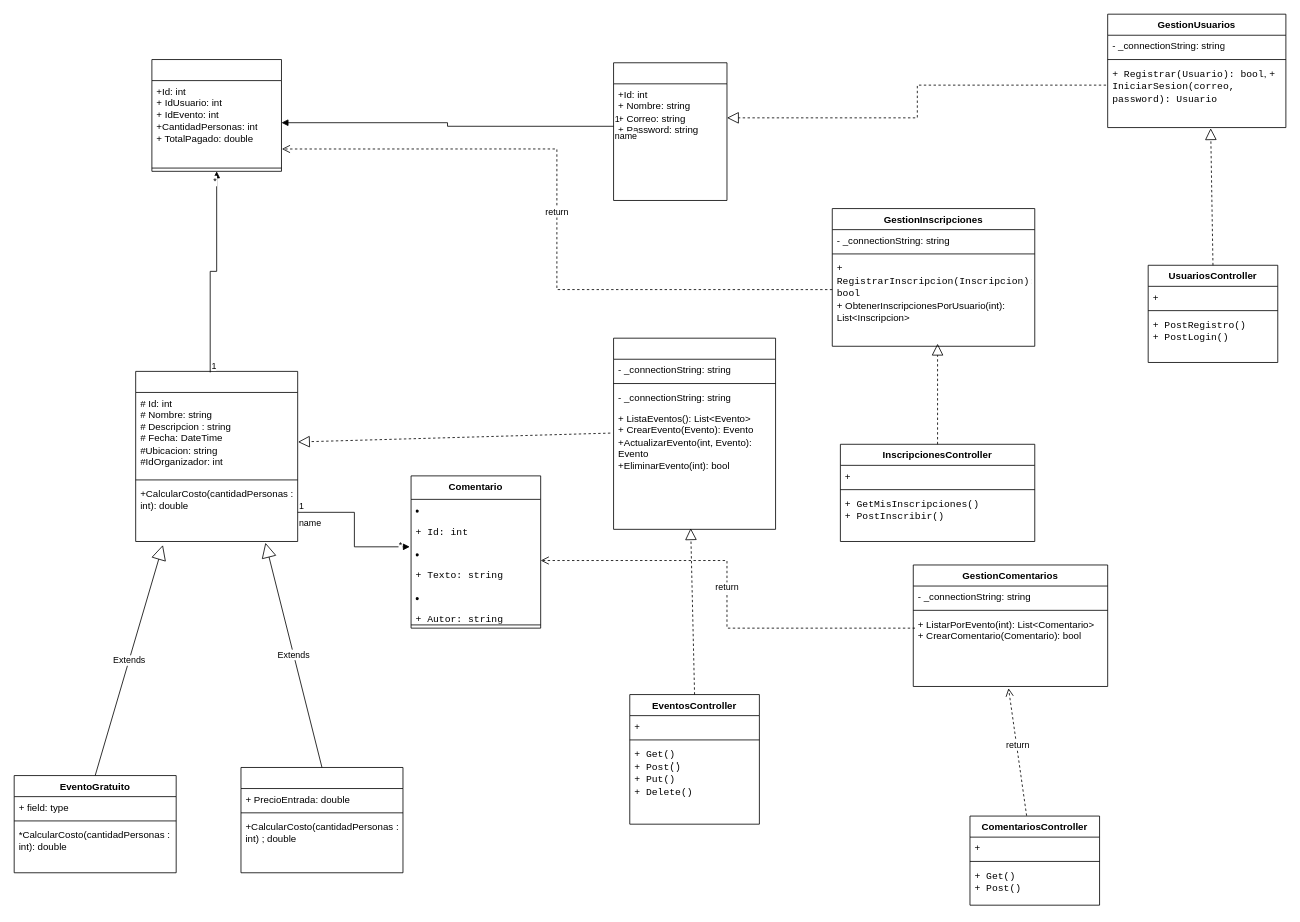
This 1300x922 diagram has some shape labels left out. The box of each missing label's shape, as (x1, y1, x2, y2) in pixels:
Evento: (135, 371, 298, 541)
EventoPagado: (240, 767, 403, 873)
GestionEventos: (613, 337, 776, 529)
Inscripcion: (151, 59, 281, 171)
Usuario: (613, 62, 727, 200)
